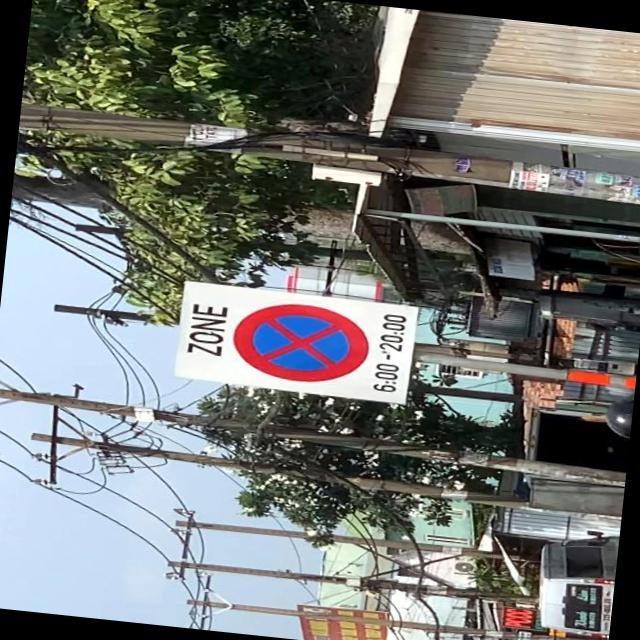P-130: (231, 297, 372, 389)
